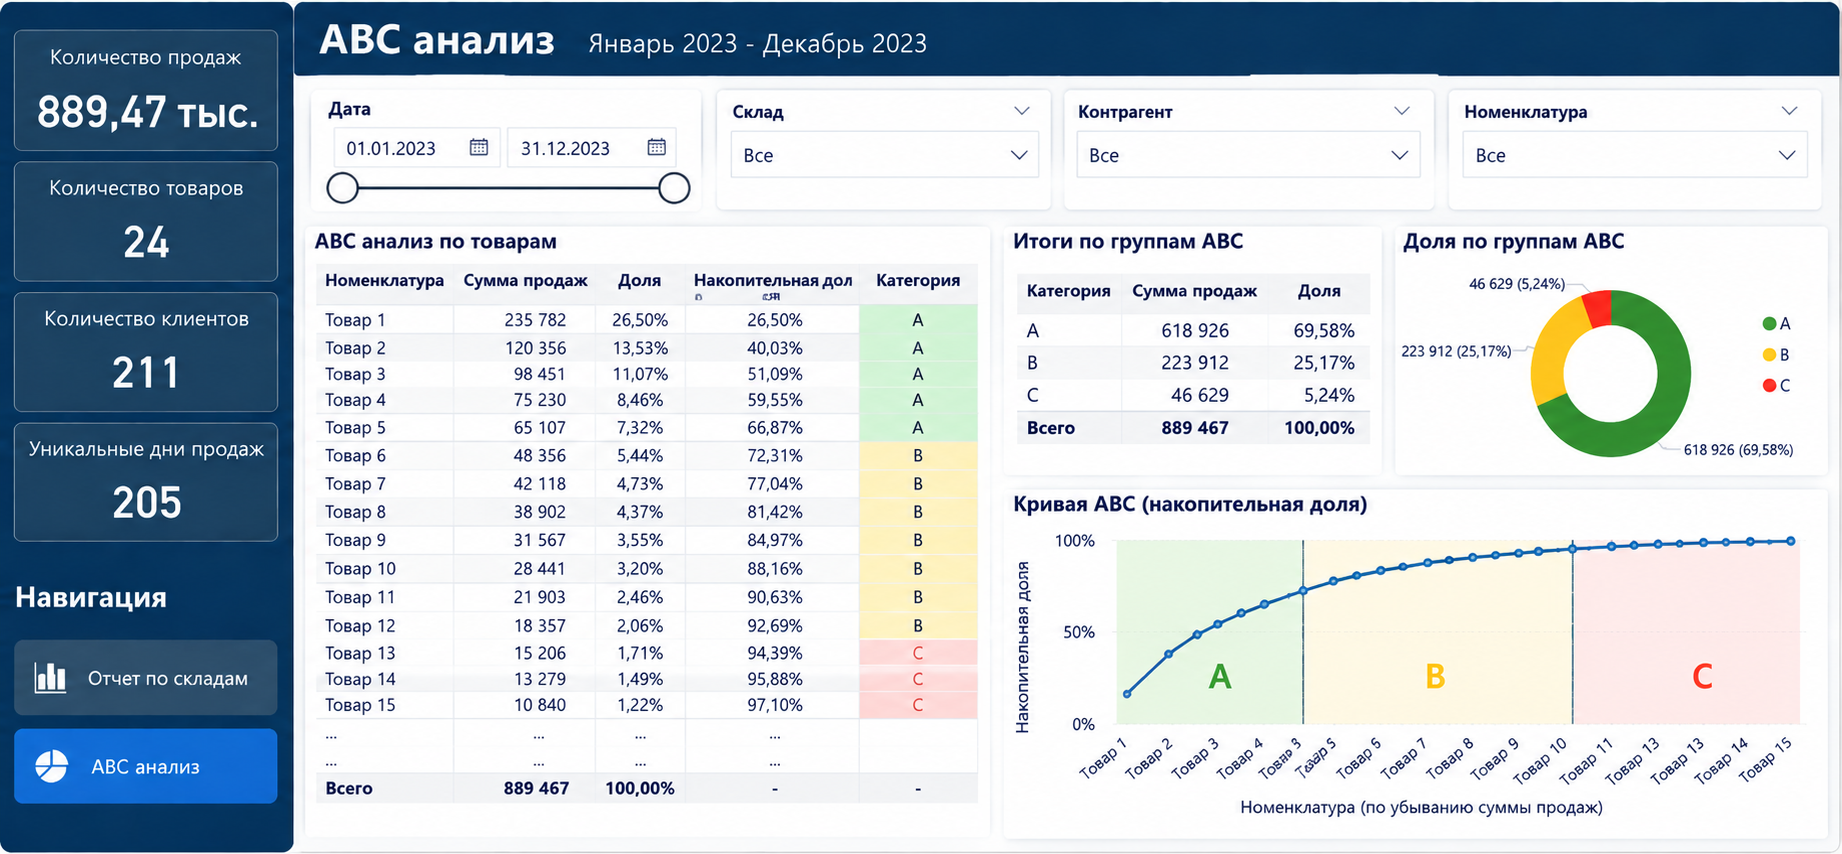

The dashboard page shown, as its layout file describes it:
{"tool":"powerbi","page":{"name":"АВС","canvas":[1280,720],"ordinal":1},"visuals":[{"type":"shape","box":[0,0,286.9,719.8],"z":0},{"type":"actionButton","box":[0,618,287.3,84.2],"z":1000},{"type":"actionButton","box":[0,534.7,287.3,83.3],"z":2000},{"type":"textbox","box":[0,481,287,54],"z":3000},{"type":"tableEx","title":"АВС анализ товаров","fields":{"Values":["ABC.Номенклатура","Sum(data.Количество)","ABC.Категория"]},"box":[298.2,193.6,533.6,512.7],"z":4000},{"type":"tableEx","title":"Анализ категорий","fields":{"Values":["ABC.Категория","ABC.Доля"]},"box":[840.9,193.6,431.8,150.9],"z":5000},{"type":"pieChart","title":"Анализ категорий","fields":{"Category":["ABC.Категория"],"Y":["Sum(data.Количество)"]},"box":[840.9,350.9,431.8,355.5],"z":6000},{"type":"card","title":"Количество продаж","fields":{"Values":["Sum(data.Количество)"]},"box":[0,19.5,287.3,87.8],"z":7000},{"type":"card","title":"Количество товаров","fields":{"Values":["Count(data.Номенклатура)"]},"box":[0,113.5,287.3,87.8],"z":8000},{"type":"card","title":"Количество клиентов","fields":{"Values":["Count(data.Контрагент)"]},"box":[0,207.5,287.3,87.8],"z":9000},{"type":"card","title":"Уникальные дни продаж","fields":{"Values":["Count(data.Дата)"]},"box":[0,301.5,287.3,86.9],"z":10000},{"type":"shape","box":[0,13.3,287.3,12.4],"z":11000},{"type":"shape","box":[0,107.3,287.3,11.5],"z":12000},{"type":"shape","box":[0,201.3,287.3,12.4],"z":13000},{"type":"shape","box":[0,295.3,287.3,12.4],"z":14000},{"type":"slicer","fields":{"Values":["data.Дата"]},"box":[1039.1,6.4,233.6,100.9],"z":15000},{"type":"slicer","fields":{"Values":["data.Контрагент"]},"box":[798.2,6.4,240.9,100.9],"z":16000},{"type":"slicer","fields":{"Values":["data.Номенклатура"]},"box":[556.4,6.4,241.8,100.9],"z":17000},{"type":"slicer","fields":{"Values":["data.Склад"]},"box":[298.2,119.1,974.5,65.5],"z":18000},{"type":"textbox","box":[298.2,6.4,258.2,100.9],"z":19000}]}

Visuals, with their boxes on the page's 1280x720 design canvas (x1, y1, x2, y2). These are canvas units, not pixel positions in the 1842x854 screenshot, which may show the page scaled, cropped or inside an application window:
shape: pyautogui.locateOnScreen(0, 0, 287, 720)
actionButton: pyautogui.locateOnScreen(0, 618, 287, 702)
actionButton: pyautogui.locateOnScreen(0, 535, 287, 618)
textbox: pyautogui.locateOnScreen(0, 481, 287, 535)
"АВС анализ товаров" tableEx: pyautogui.locateOnScreen(298, 194, 832, 706)
"Анализ категорий" tableEx: pyautogui.locateOnScreen(841, 194, 1273, 344)
"Анализ категорий" pieChart: pyautogui.locateOnScreen(841, 351, 1273, 706)
"Количество продаж" card: pyautogui.locateOnScreen(0, 20, 287, 107)
"Количество товаров" card: pyautogui.locateOnScreen(0, 114, 287, 201)
"Количество клиентов" card: pyautogui.locateOnScreen(0, 208, 287, 295)
"Уникальные дни продаж" card: pyautogui.locateOnScreen(0, 302, 287, 388)
shape: pyautogui.locateOnScreen(0, 13, 287, 26)
shape: pyautogui.locateOnScreen(0, 107, 287, 119)
shape: pyautogui.locateOnScreen(0, 201, 287, 214)
shape: pyautogui.locateOnScreen(0, 295, 287, 308)
slicer - data.Дата: pyautogui.locateOnScreen(1039, 6, 1273, 107)
slicer - data.Контрагент: pyautogui.locateOnScreen(798, 6, 1039, 107)
slicer - data.Номенклатура: pyautogui.locateOnScreen(556, 6, 798, 107)
slicer - data.Склад: pyautogui.locateOnScreen(298, 119, 1273, 185)
textbox: pyautogui.locateOnScreen(298, 6, 556, 107)
